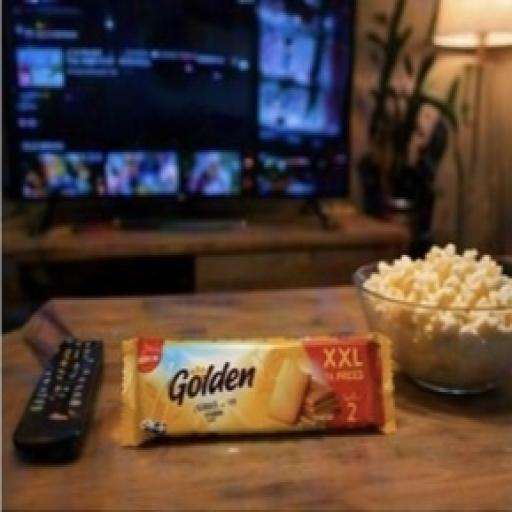golden: (93, 262, 425, 486)
